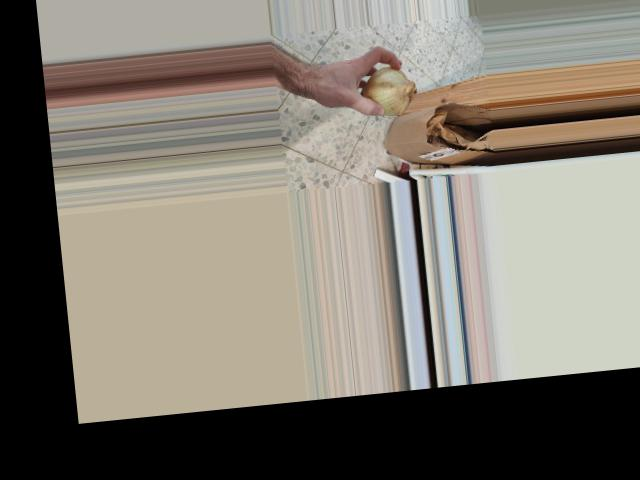onion: (351, 64, 417, 119)
